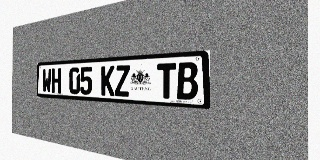0: (69, 67, 80, 94)
5: (80, 67, 92, 95)
B: (177, 62, 198, 100)
H: (51, 68, 61, 93)
K: (101, 66, 115, 96)
T: (157, 63, 176, 99)
W: (42, 68, 51, 93)
Z: (115, 65, 130, 97)
